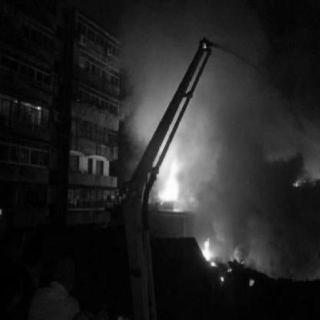Fire: (160, 127, 197, 209)
Smoke: (138, 19, 278, 162)
